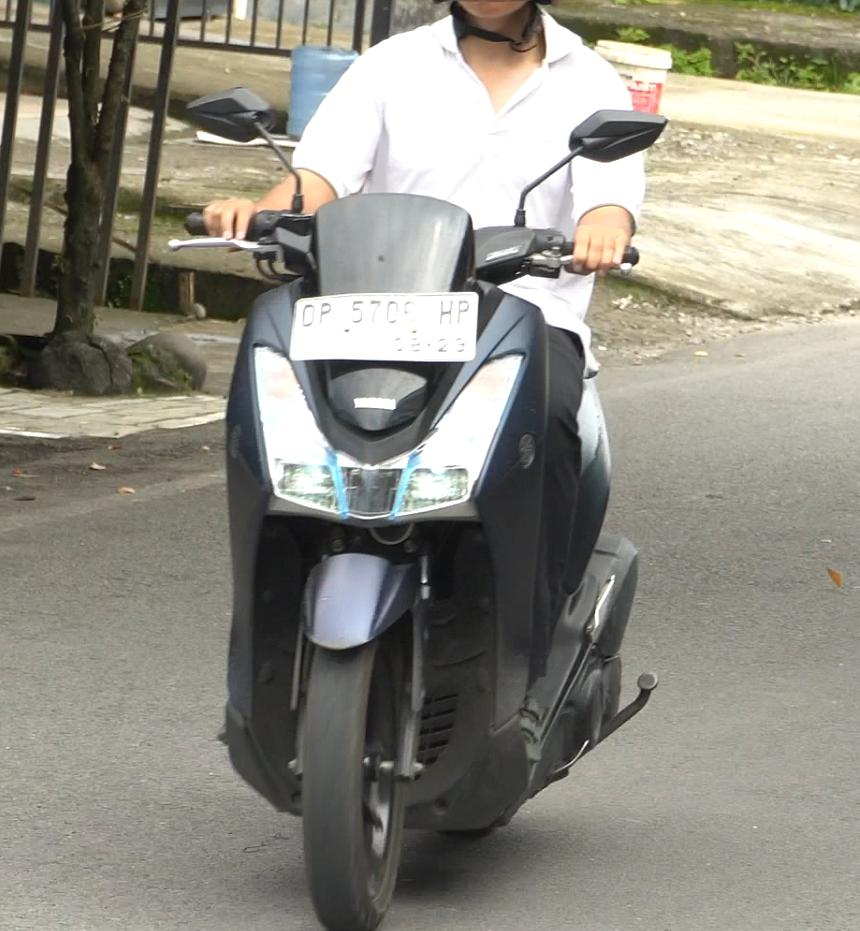number-plate: (283, 295, 486, 364)
